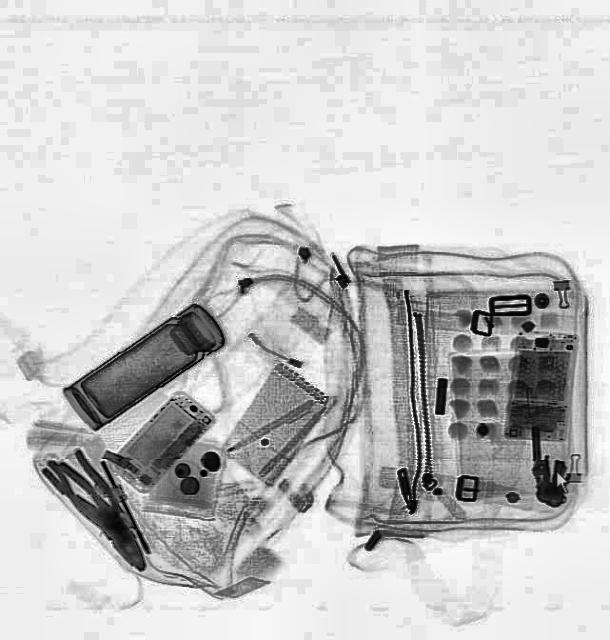Pliers: (41, 440, 161, 582)
